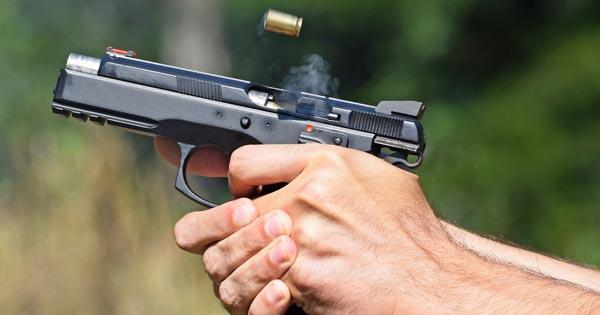gun: (46, 34, 438, 232)
